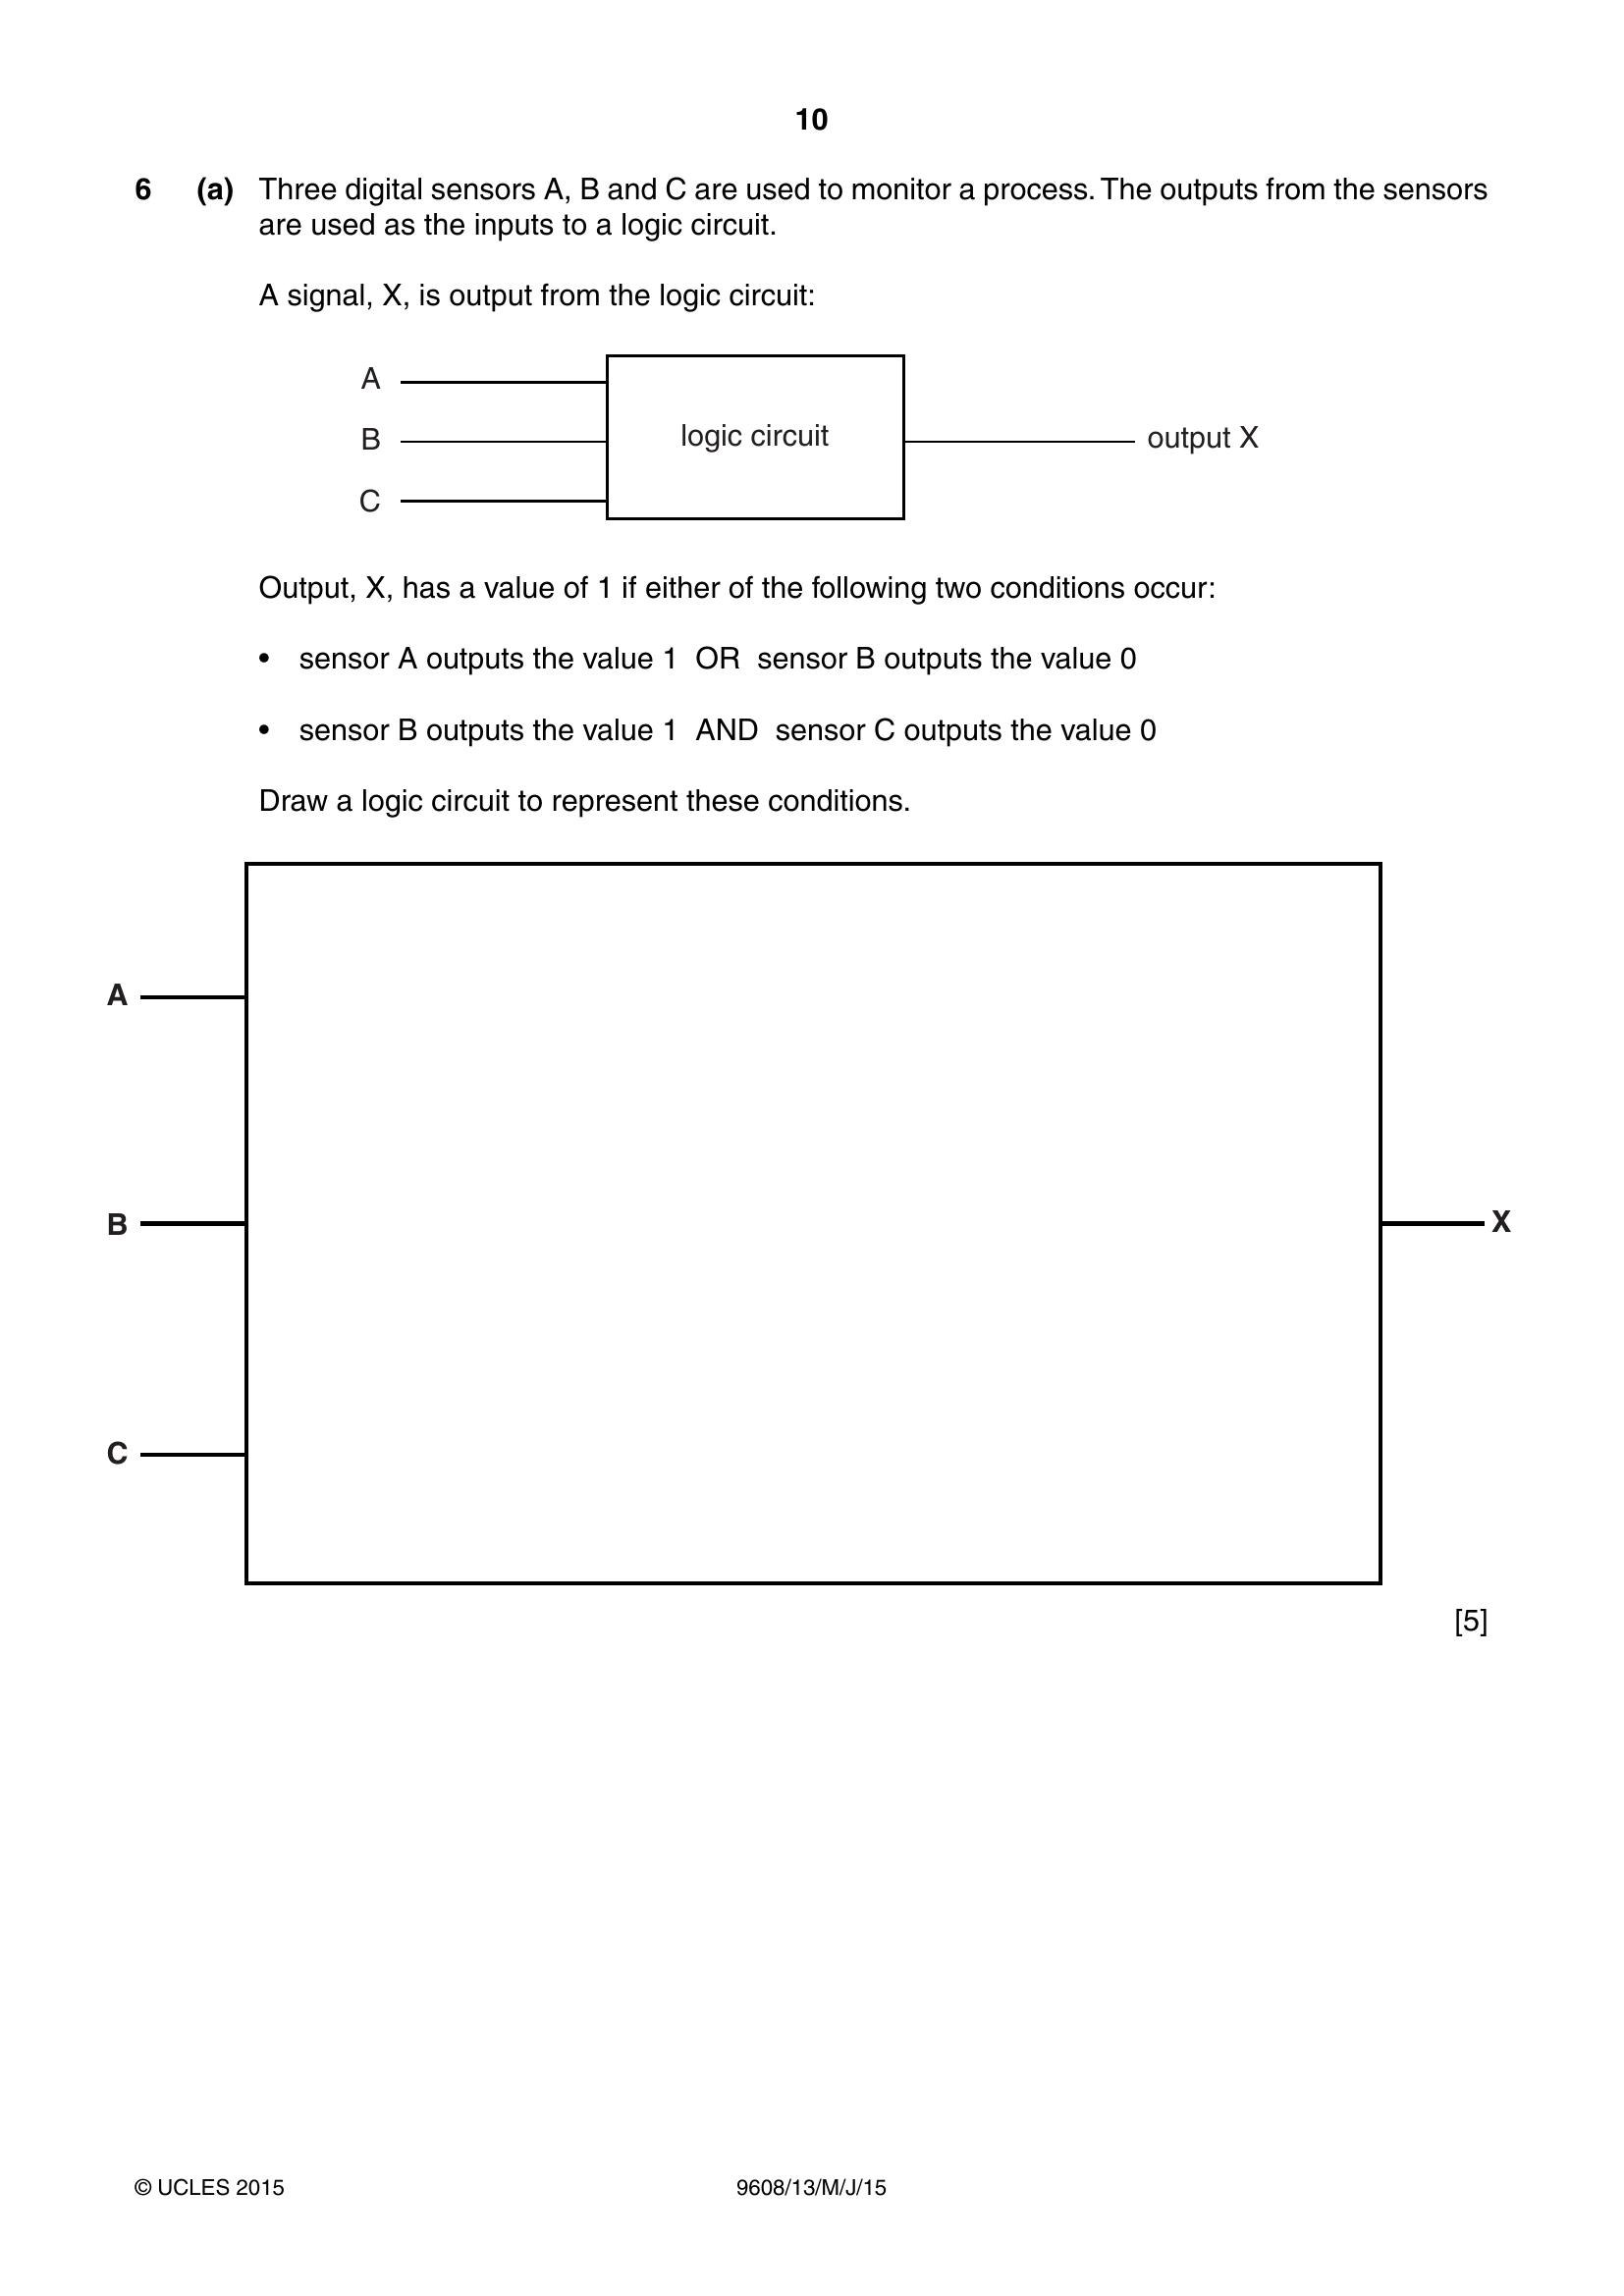question: (2, 155, 1624, 1715)
